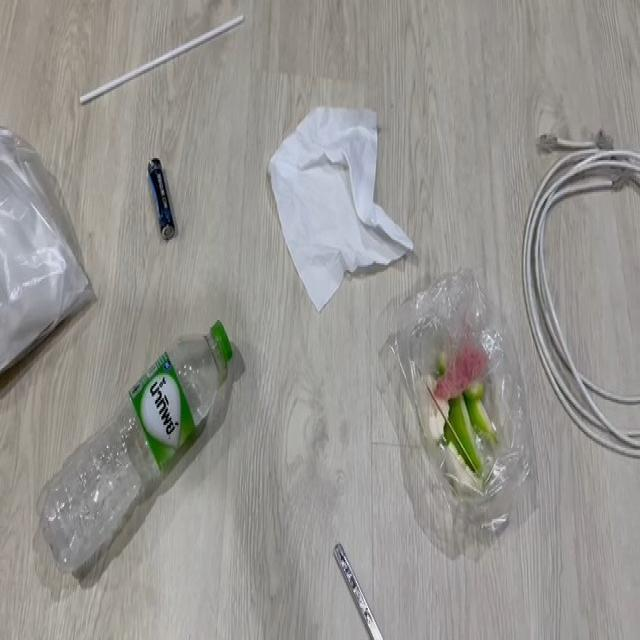Anorganik: (56, 346, 255, 546), (263, 87, 401, 310), (0, 146, 100, 377), (94, 30, 256, 96), (332, 546, 394, 640)
B3: (392, 293, 538, 532), (526, 139, 640, 441), (147, 140, 181, 244)
